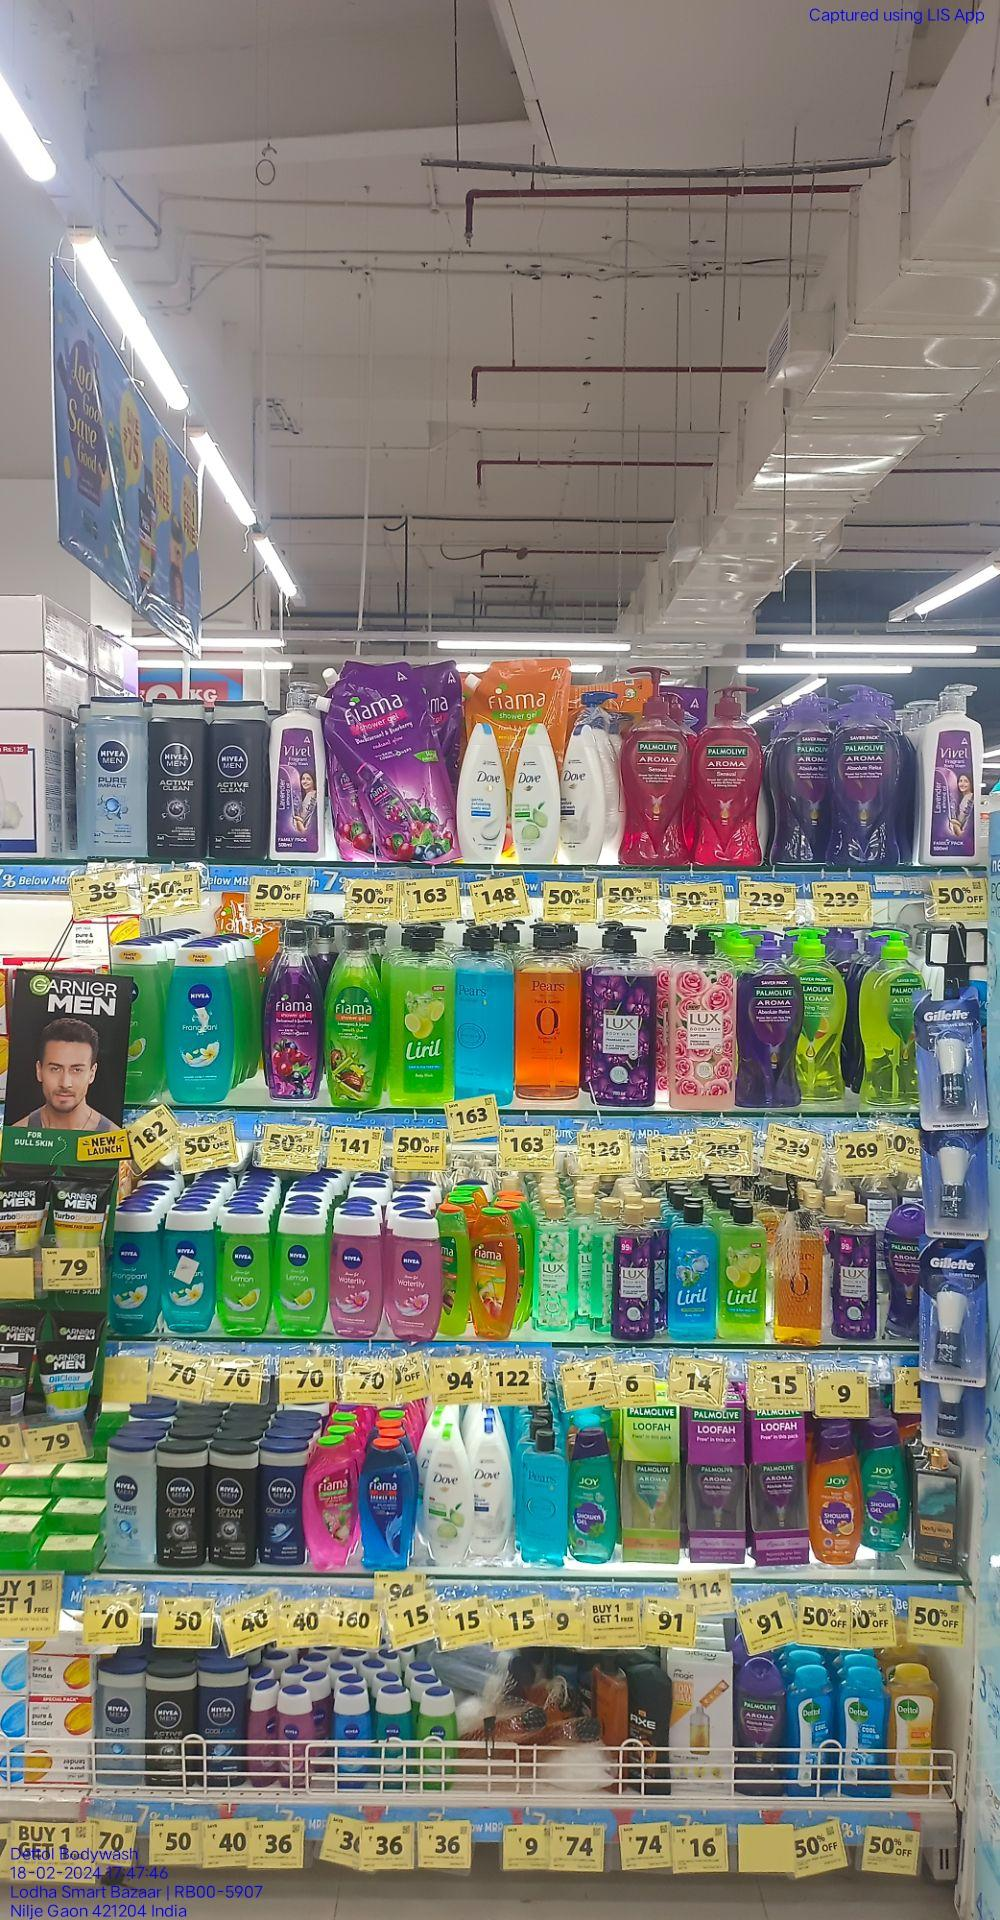Dettol_Bodywash_Cool: (839, 1667, 890, 1801), (787, 1665, 836, 1797)
Dettol_Bodywash_Refresh: (891, 1660, 940, 1796)
Dove_Deep_Moisture_Body_Wash_250ML: (561, 726, 604, 866)
Dove_Gentle_Exfoliating_Body_Wash_250ML: (458, 721, 506, 865), (473, 1418, 510, 1562)
Dove_Refreshing_Body_Wash_250ML: (424, 1422, 471, 1566), (513, 726, 557, 862)
Fiama_Shower_Gel_Patchouli_and_Macadamia_250ML: (298, 1434, 359, 1571)
Fiama_Shower_Gel_Peach_and_Avocado_250ML: (471, 1201, 515, 1340)
Joy_Shower_Gel_Mandarin_and_Lemongrass_250ML: (808, 1423, 859, 1566)
Joy_Shower_Gel_Mint_and_Eucalyptus_250ML: (862, 1417, 910, 1549), (571, 1429, 617, 1566)
Liril_Cooling_Mint_Body_Wash_250ML: (668, 1203, 717, 1342)
Liril_Lime_and_Tea_Tree_Oil_Body_Wash_250ML: (718, 1205, 765, 1343)
Lux_Black_Orchid_Scent_and_Juniper_Oil_Body_Wash_245ML: (831, 1204, 877, 1342), (612, 1197, 655, 1342)
Lux_Body_Wash_Skin_Detox_Freesia_Scent_and_Alove_Vera_245ML: (534, 1196, 572, 1331)
Nivea_Shower_Gel_Frangipani_and_Oil_250ML: (161, 947, 227, 1103), (164, 1209, 212, 1335), (113, 1210, 160, 1338)
Nivea_Shower_Gel_Lemon_and_Oil_250ML: (274, 1210, 331, 1338), (220, 1210, 270, 1338)
Nivea_Shower_Gel_Waterlily_and_Oil_250ML: (334, 1208, 385, 1338), (388, 1211, 438, 1340)
Palmolive_Aroma_Relax_250ML: (734, 1658, 786, 1794), (882, 1204, 923, 1346)
Pears_Pure_Glycerin_and_Mint_Extracts_Body_Wash_250ML: (518, 1430, 567, 1570)
